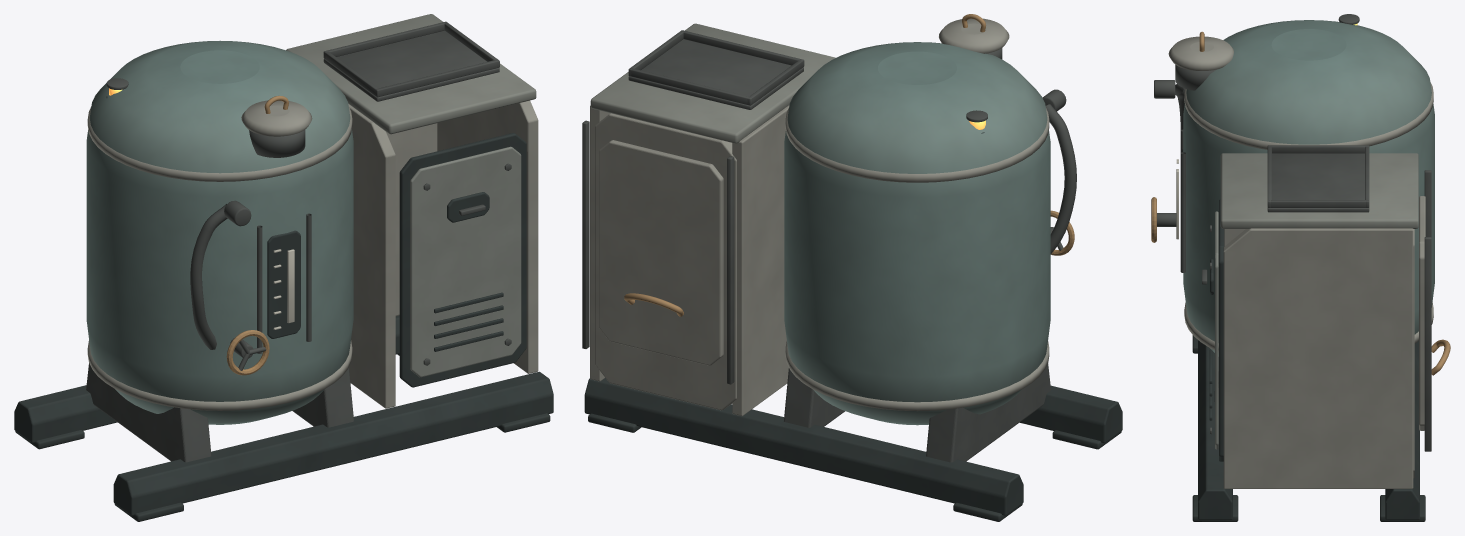
The model's file is NW8_WaterTank.fbx.
The picture shows the model from 3 angles, left to right: view 1: azimuth 30°, elevation 25°; view 2: azimuth 150°, elevation 25°; view 3: azimuth 270°, elevation 25°; orthographic projection. The views are drawn at different scales.
Visible parts, largest first — view 1: NW8_WaterTank_Mesh, NW8_WaterTank_Placement_MaintenanceTray_Mesh, NW8_WaterTank_Work_FillLid_Mesh, NW8_WaterTank_Work_Valve_Mesh; view 2: NW8_WaterTank_Mesh, NW8_WaterTank_Work_ServiceDoor_Mesh, NW8_WaterTank_Placement_MaintenanceTray_Mesh, NW8_WaterTank_Work_FillLid_Mesh; view 3: NW8_WaterTank_Mesh, NW8_WaterTank_Placement_MaintenanceTray_Mesh, NW8_WaterTank_Work_FillLid_Mesh, NW8_WaterTank_Work_ServiceDoor_Mesh, NW8_WaterTank_Work_Valve_Mesh.
Part boxes in pixels (bbox=[...]): NW8_WaterTank_Mesh: bbox=[14, 14, 553, 521]; NW8_WaterTank_Placement_MaintenanceTray_Mesh: bbox=[323, 21, 499, 101]; NW8_WaterTank_Work_FillLid_Mesh: bbox=[241, 95, 312, 136]; NW8_WaterTank_Work_Valve_Mesh: bbox=[226, 330, 269, 375]; NW8_WaterTank_Mesh: bbox=[582, 23, 1122, 521]; NW8_WaterTank_Work_ServiceDoor_Mesh: bbox=[599, 140, 723, 365]; NW8_WaterTank_Placement_MaintenanceTray_Mesh: bbox=[628, 30, 804, 109]; NW8_WaterTank_Work_FillLid_Mesh: bbox=[939, 14, 1009, 53]; NW8_WaterTank_Mesh: bbox=[1154, 14, 1434, 521]; NW8_WaterTank_Placement_MaintenanceTray_Mesh: bbox=[1267, 145, 1369, 212]; NW8_WaterTank_Work_FillLid_Mesh: bbox=[1168, 31, 1233, 70]; NW8_WaterTank_Work_ServiceDoor_Mesh: bbox=[1419, 196, 1450, 430]; NW8_WaterTank_Work_Valve_Mesh: bbox=[1151, 197, 1176, 242].
Bounding box in the file's own units: 1.72 × 1.51 × 1.12.
